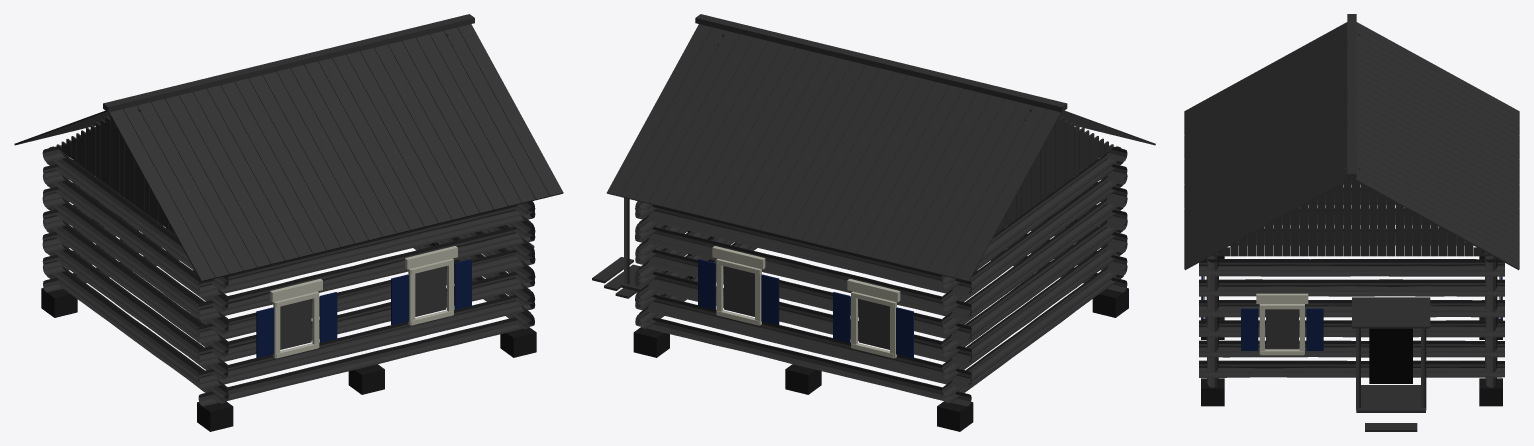
File: SM_Izba.fbx
3 renders of one model, left to right at view 1: azimuth 30°, elevation 25°; view 2: azimuth 150°, elevation 25°; view 3: azimuth 270°, elevation 25°, orthographic. The views are drawn at different scales.
Visible parts, largest first — view 1: SM_Izba; view 2: SM_Izba; view 3: SM_Izba.
Boxes of the visible parts, x1,y1,x2,y2 form: SM_Izba: [14, 14, 563, 431]; SM_Izba: [592, 14, 1155, 431]; SM_Izba: [1184, 14, 1519, 431].
Bounding box in the file's own units: 1035 × 770 × 612.
